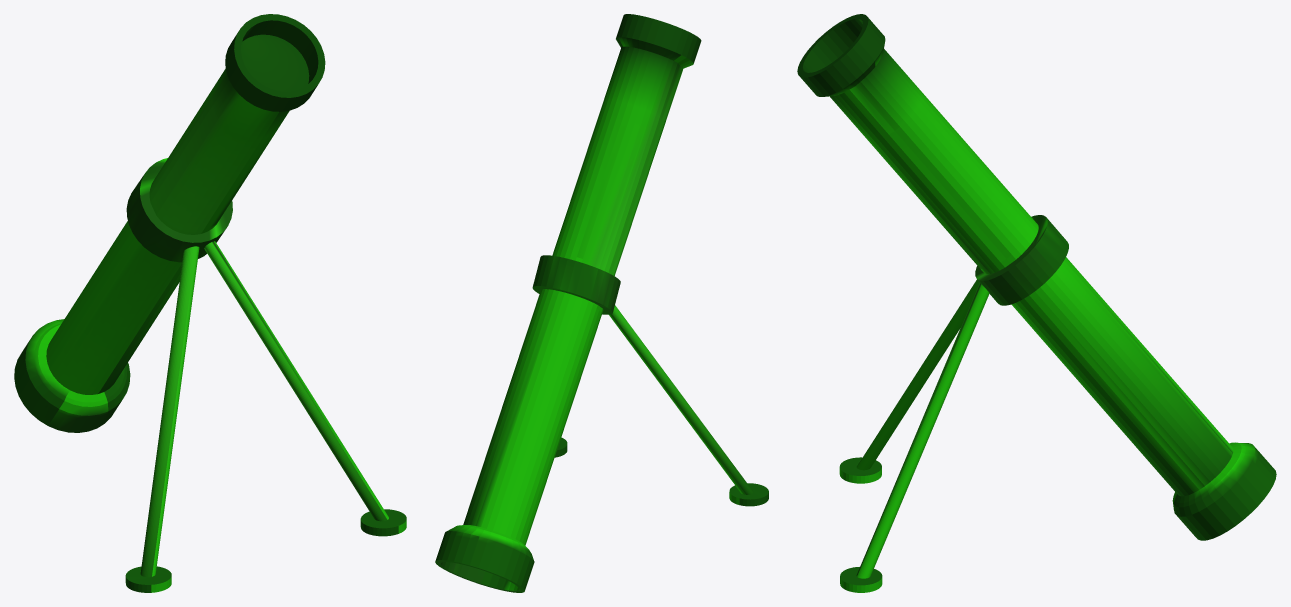
The model's file is Mortar Cannon.fbx.
3 renders of one model, left to right at view 1: azimuth 30°, elevation 25°; view 2: azimuth 150°, elevation 25°; view 3: azimuth 270°, elevation 25°, orthographic. The views are drawn at different scales.
Visible parts, largest first — view 1: Mortar_cannon; view 2: Mortar_cannon; view 3: Mortar_cannon.
Boxes of the visible parts, x1=… form: Mortar_cannon: x1=14, y1=14, x2=406, y2=592; Mortar_cannon: x1=435, y1=14, x2=768, y2=592; Mortar_cannon: x1=797, y1=14, x2=1276, y2=592.
Bounding box in the file's own units: 160 × 301 × 255.
